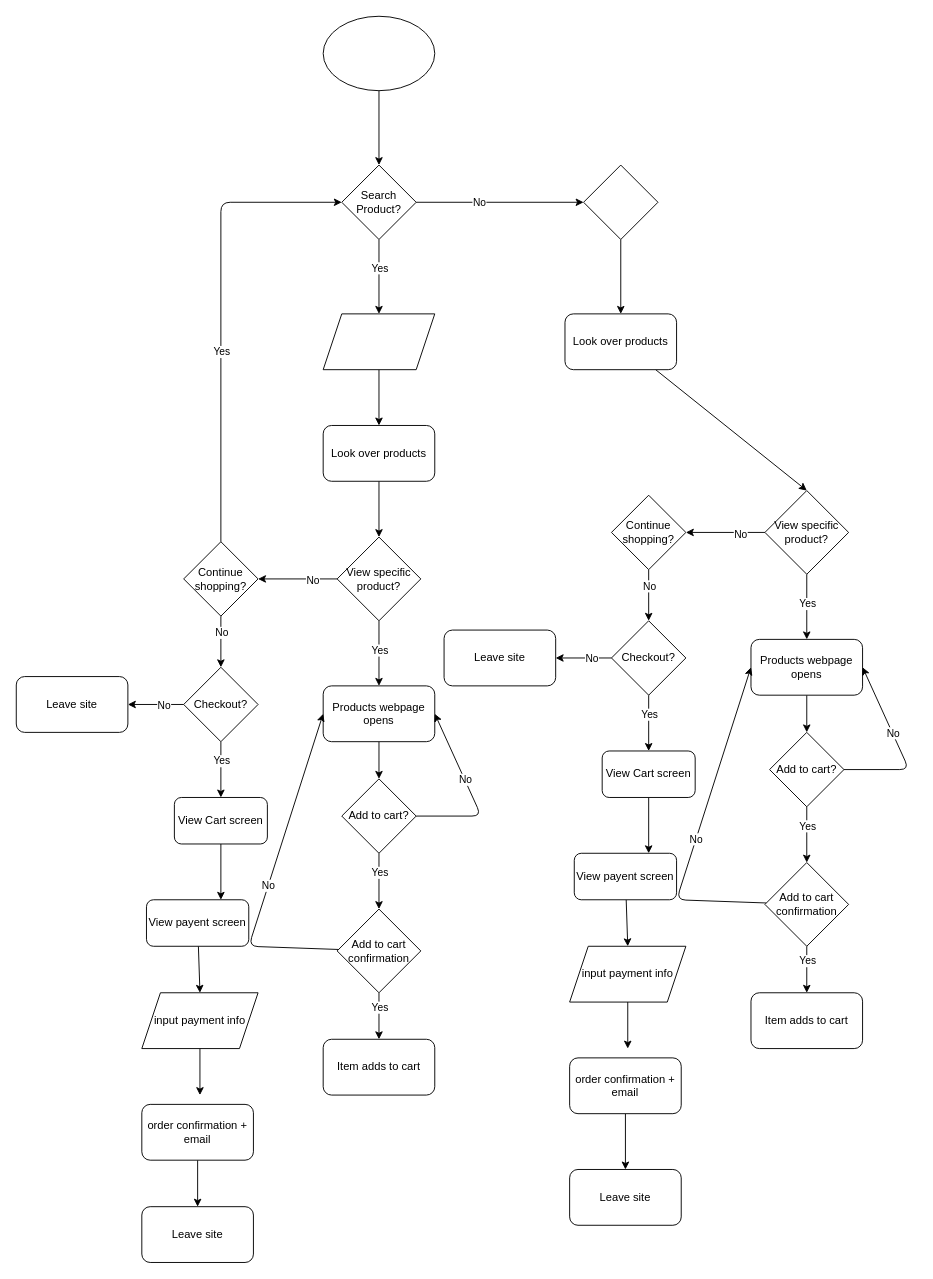
Image size: 933x1279. Some labels were removed from this diagram. The centre of each missing label's shape, as x and y in pixels:
"Explore Products?" goes at (x=620, y=201).
"Search input" goes at (x=378, y=341).
"Start" goes at (x=378, y=53).
